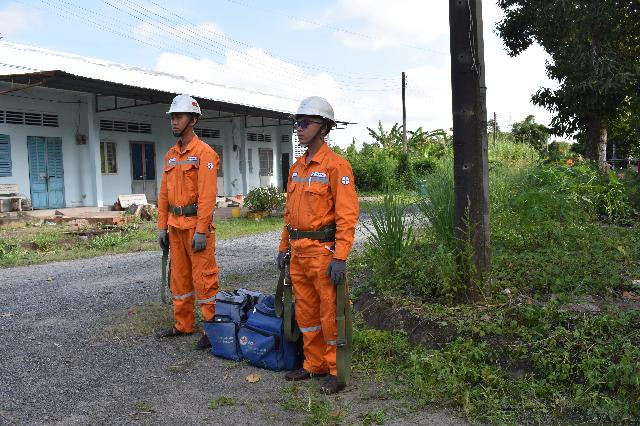gloves: (323, 254, 350, 287), (187, 229, 211, 257), (149, 227, 174, 251), (270, 249, 293, 274)
harness: (277, 221, 348, 243), (162, 198, 209, 221)
helmet: (278, 92, 349, 125), (162, 87, 203, 119)
shoes: (285, 359, 329, 379), (321, 371, 354, 396), (147, 325, 194, 340), (195, 325, 215, 354)
